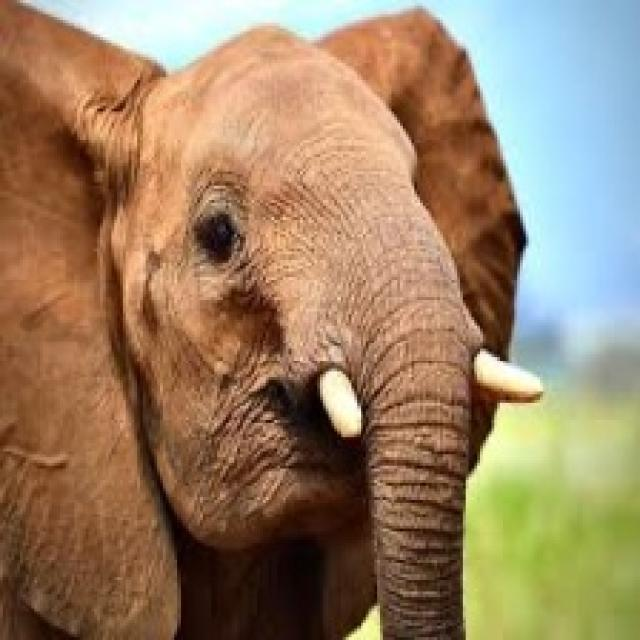bear: (31, 21, 600, 611)
